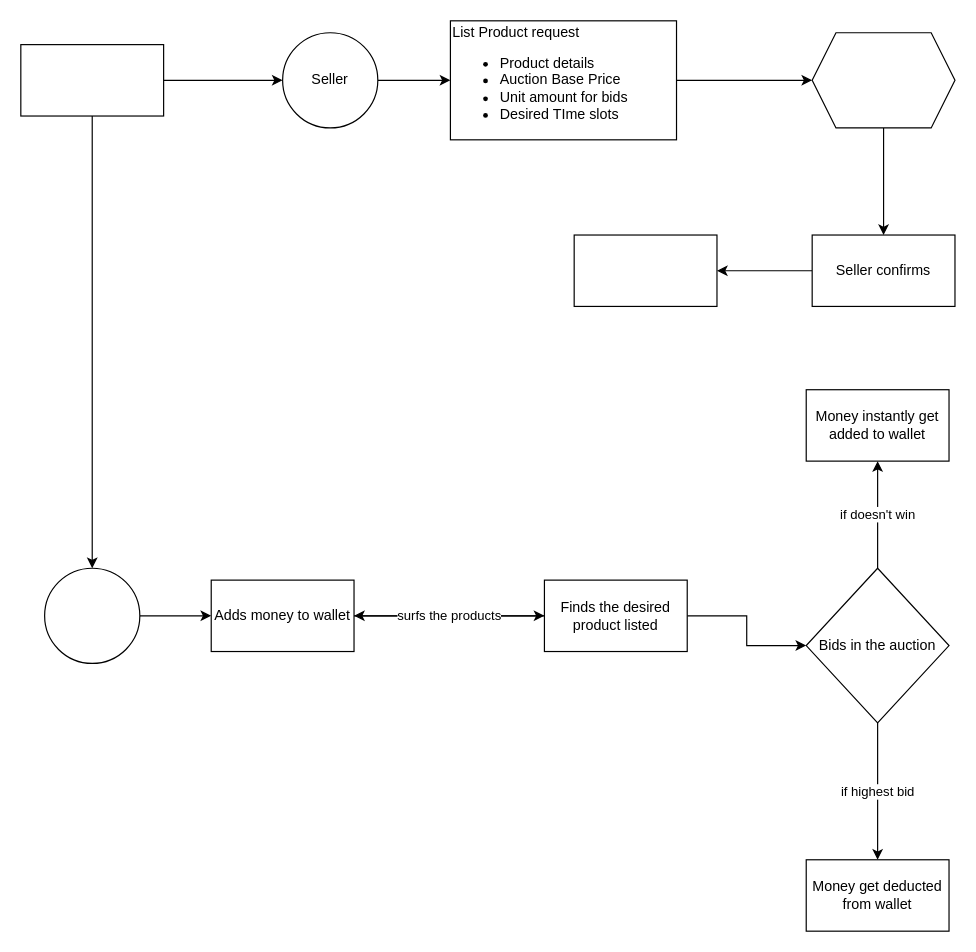
The diagram is 976 pixels wide and 952 high, and some of its shapes have lost their labels. The shapes that lost their labels are listed below. From the top down, each one's box as (x1, y1, x2, y2) in pixels, then its label:
(20, 43, 164, 116): User
(811, 32, 955, 128): Manager approves and assign time slots
(573, 234, 717, 306): Product get listed in the time slots
(43, 567, 140, 663): Buyer
